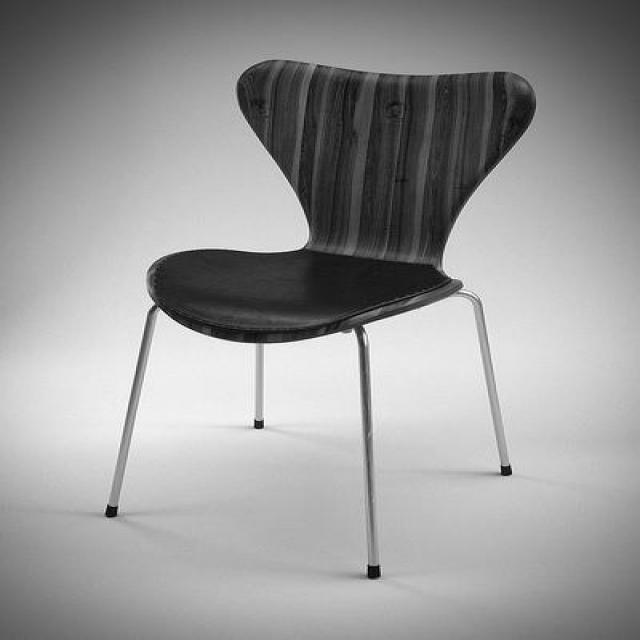chair: (97, 59, 550, 584)
